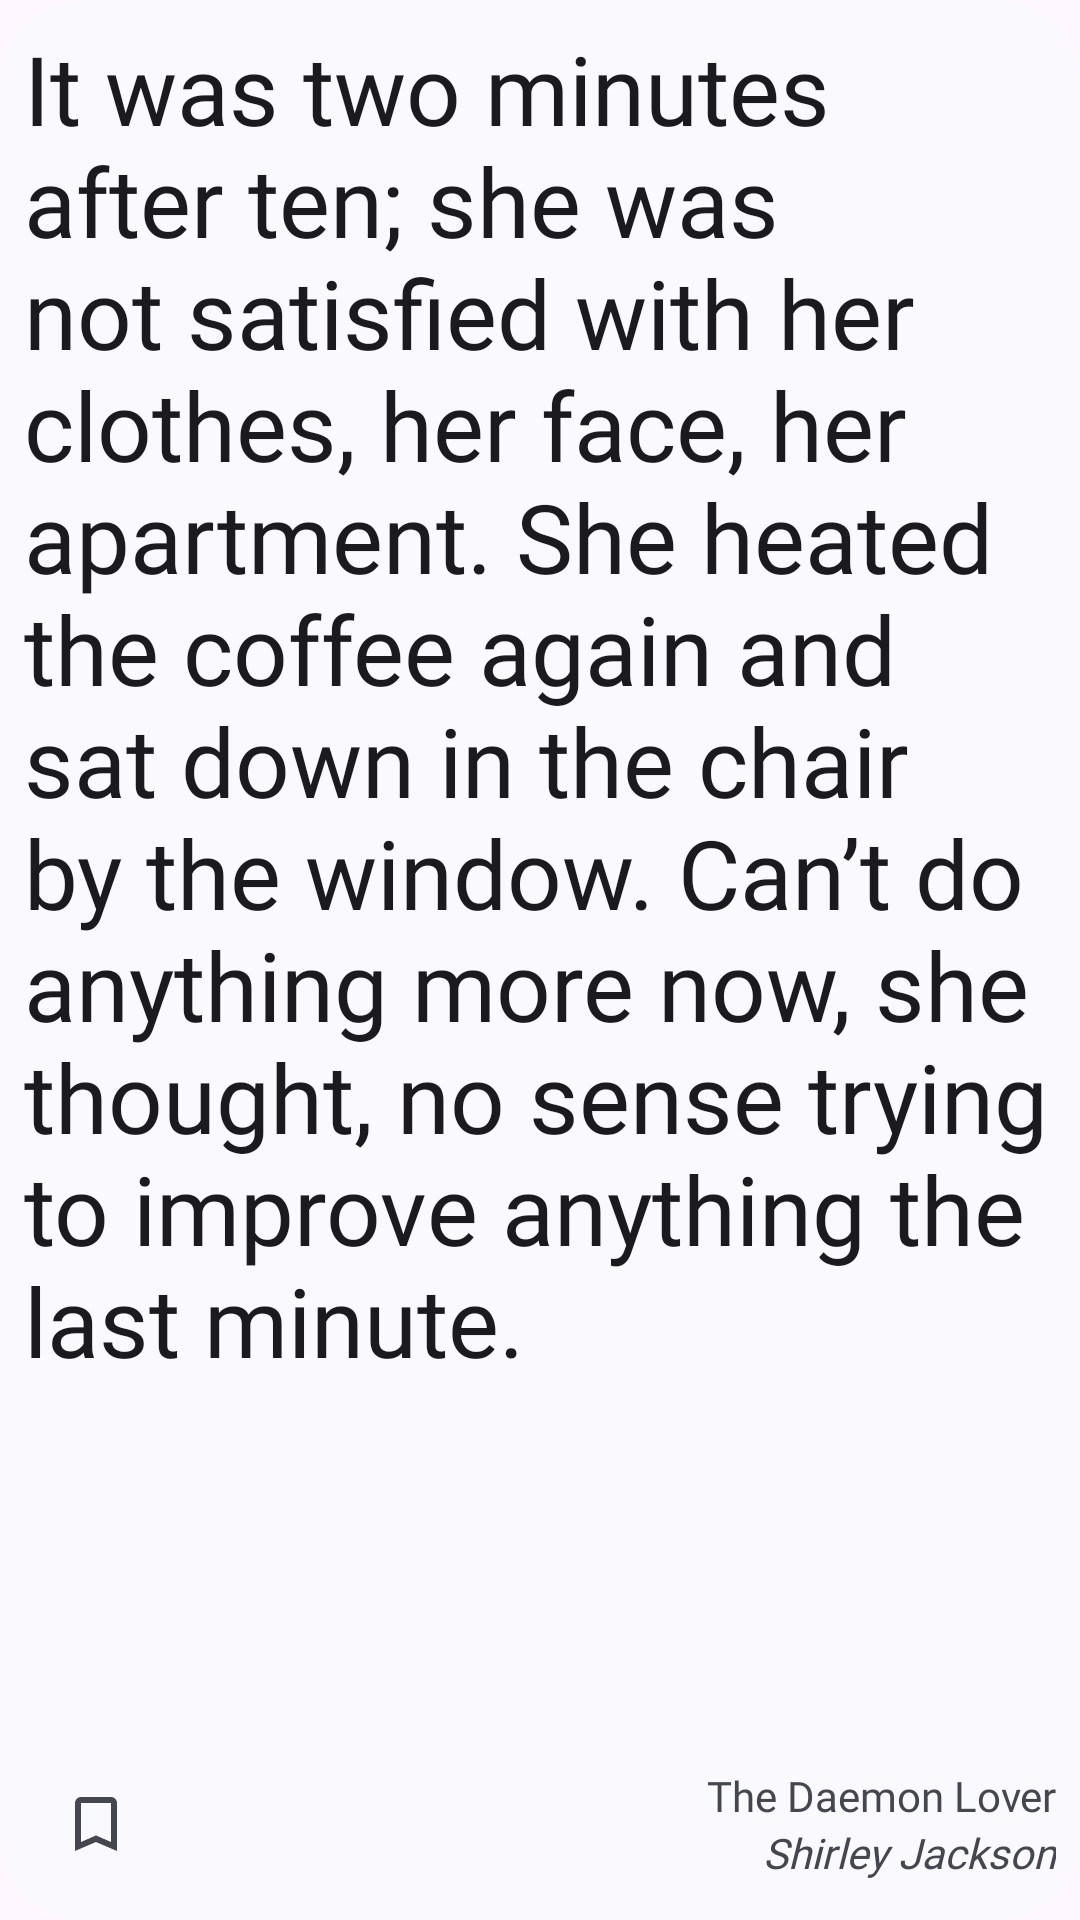

Icon click points for this 1080 x 1920 phone screenshot, format point (x, y):
Add to favorites: point (96, 1824)
